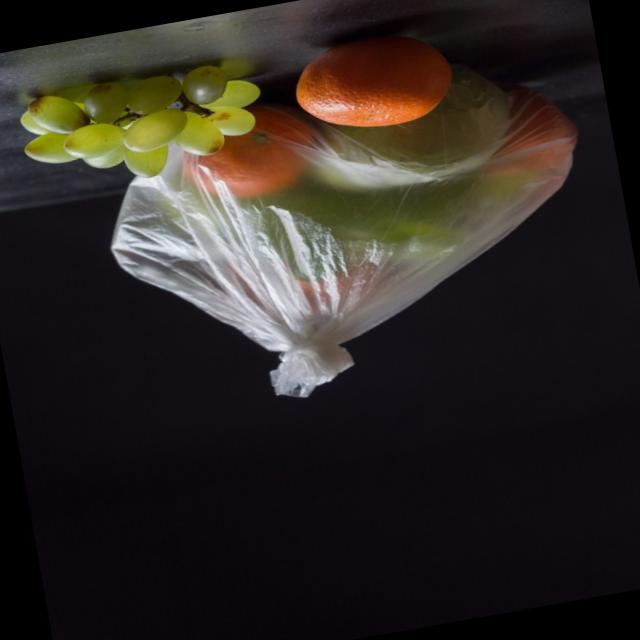plastic_bag: (46, 74, 589, 402)
